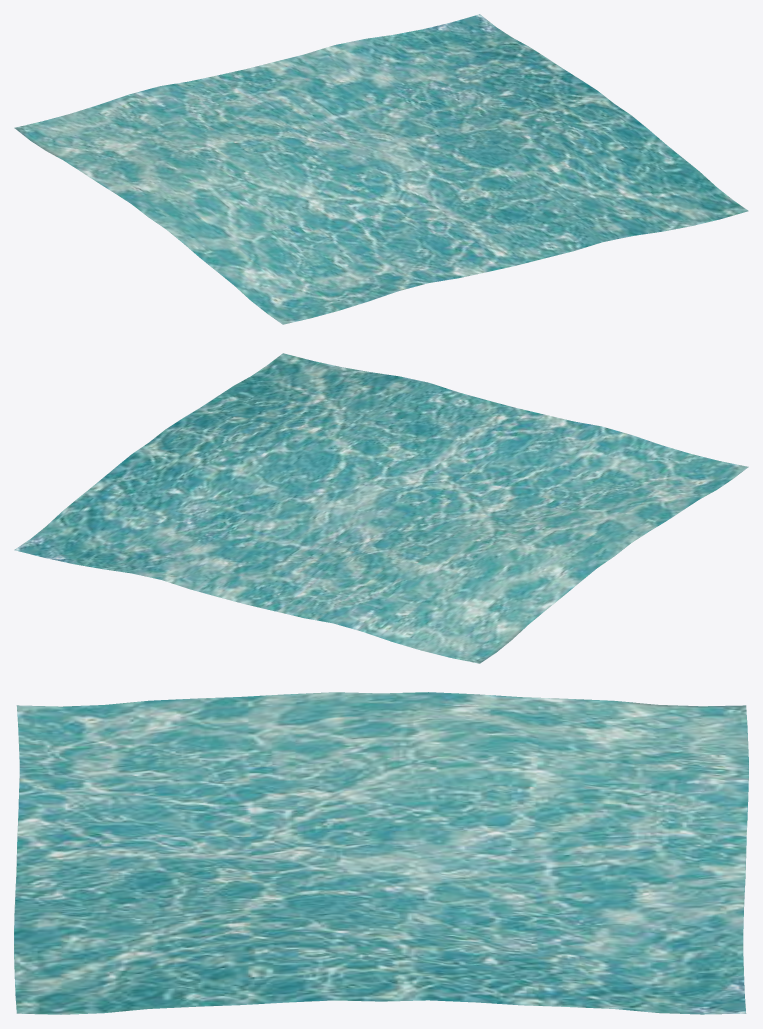
Rendered from water_000213.obj.
3 views of the same model, one above another, from view 1: azimuth 30°, elevation 25°; view 2: azimuth 150°, elevation 25°; view 3: azimuth 270°, elevation 25° (orthographic). The views are drawn at different scales.
Parts seen in each view (by area): view 1: Plan.003_Plan.001; view 2: Plan.003_Plan.001; view 3: Plan.003_Plan.001.
Boxes of the visible parts, left/top/right/bottom form: Plan.003_Plan.001: left=14, top=14, right=748, bottom=324; Plan.003_Plan.001: left=14, top=353, right=748, bottom=663; Plan.003_Plan.001: left=14, top=692, right=748, bottom=1014.
Bounding box in the file's own units: 60393 × 1811 × 60796.
